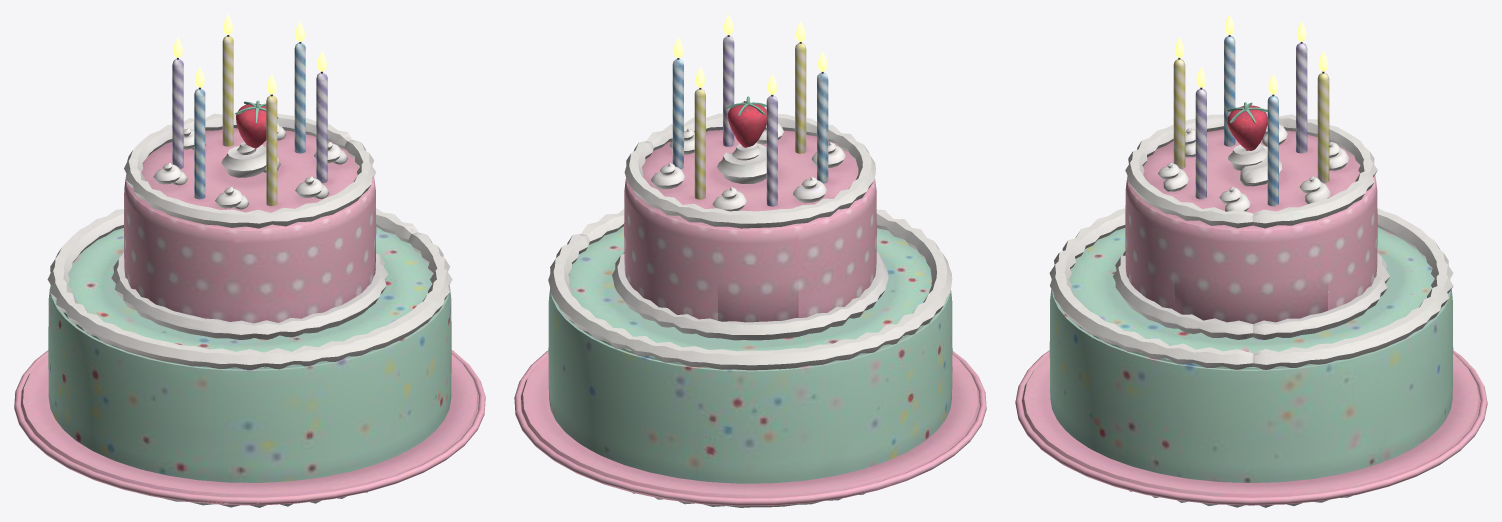
Rendered from tarta_cumple.glb.
3 renders of one model, left to right at view 1: azimuth 30°, elevation 25°; view 2: azimuth 150°, elevation 25°; view 3: azimuth 270°, elevation 25°, orthographic.
Visible parts, largest first — view 1: birthday-cake_body; view 2: birthday-cake_body; view 3: birthday-cake_body.
Boxes of the visible parts, left/top/right/bottom form: birthday-cake_body: left=14, top=14, right=485, bottom=507; birthday-cake_body: left=514, top=14, right=986, bottom=507; birthday-cake_body: left=1015, top=14, right=1487, bottom=507.
Bounding box in the file's own units: 0.2814 × 0.2541 × 0.2814.
2 materials, 1 textured.
